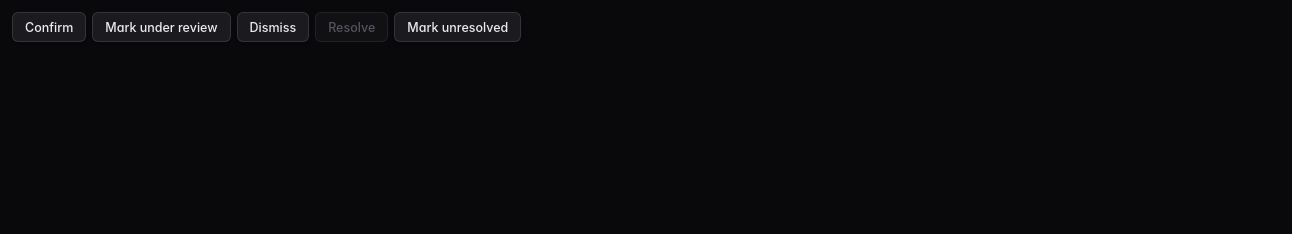
it: FindingActions › does not require a note to confirm
This screenshot has width=1292, height=234.
Click the button "Confirm" at (49, 27), box [12,12,86,42]
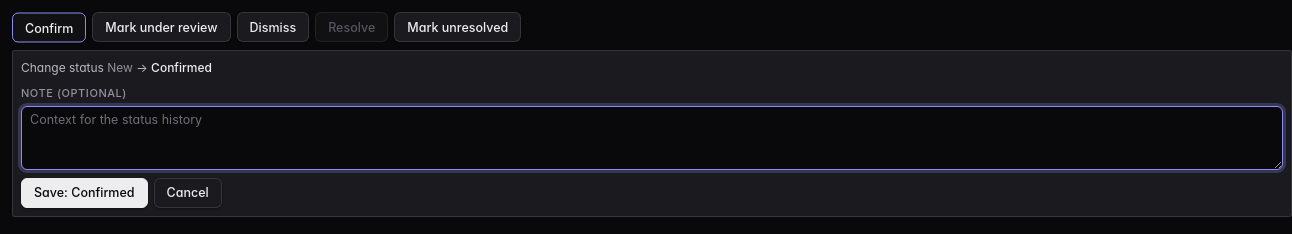
Result: the button "Save: Confirmed" is enabled at [21,178,148,208]
